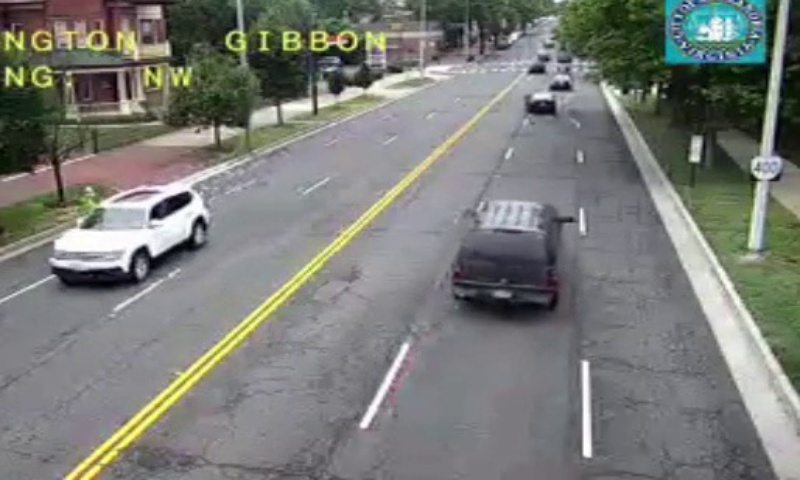car: (451, 200, 560, 305), (522, 93, 555, 115)
